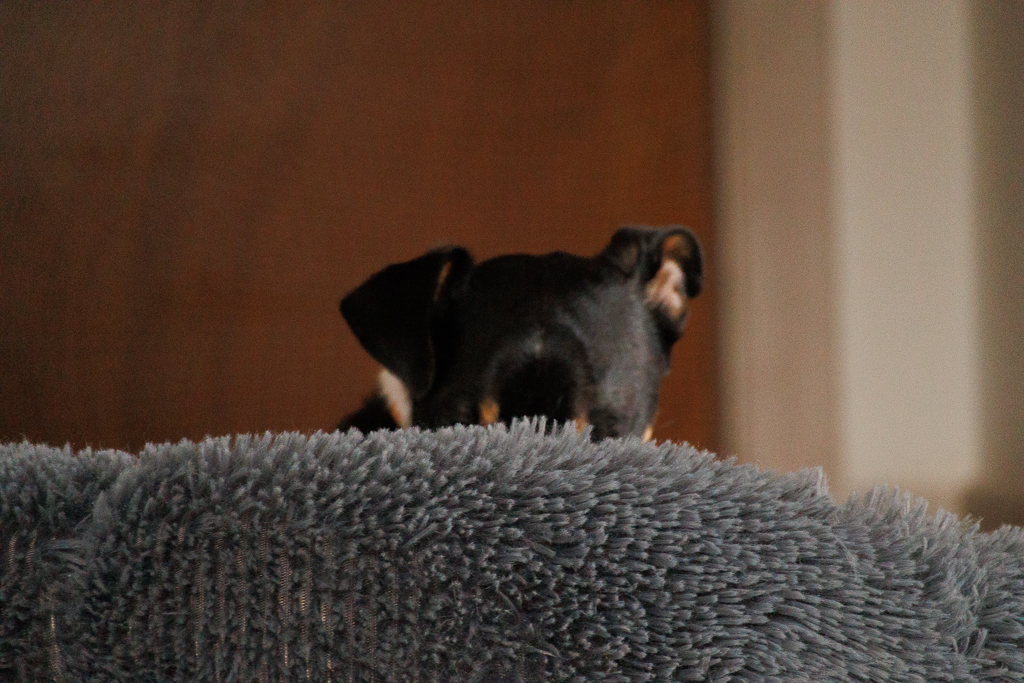Dog: (320, 209, 723, 457)
